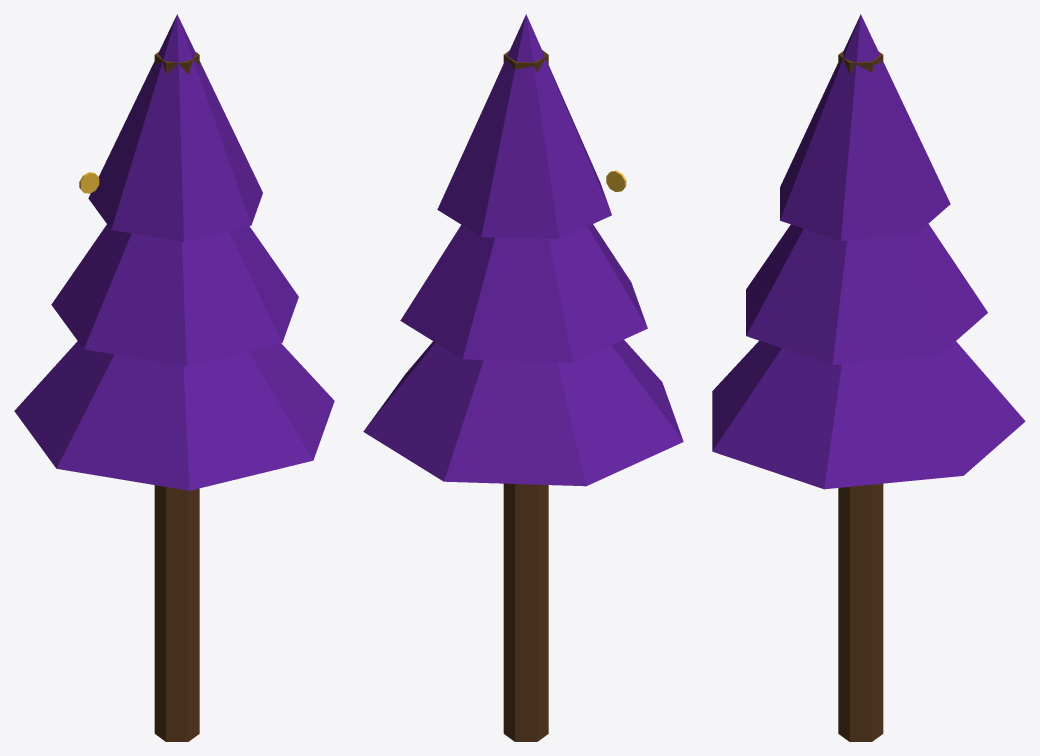
The model's file is Prop_OR_LedgerTree_09.glb.
3 renders of one model, left to right at view 1: azimuth 30°, elevation 25°; view 2: azimuth 150°, elevation 25°; view 3: azimuth 270°, elevation 25°, orthographic.
Visible parts, largest first — view 1: Prop_OR_LedgerTree_09; view 2: Prop_OR_LedgerTree_09; view 3: Prop_OR_LedgerTree_09.
Part boxes in pixels (left/top/right/bottom): Prop_OR_LedgerTree_09: left=14, top=14, right=334, bottom=741; Prop_OR_LedgerTree_09: left=363, top=14, right=683, bottom=741; Prop_OR_LedgerTree_09: left=712, top=14, right=1025, bottom=741.
Size of the model in its own units: 2.14 by 5.3 by 2.09.
